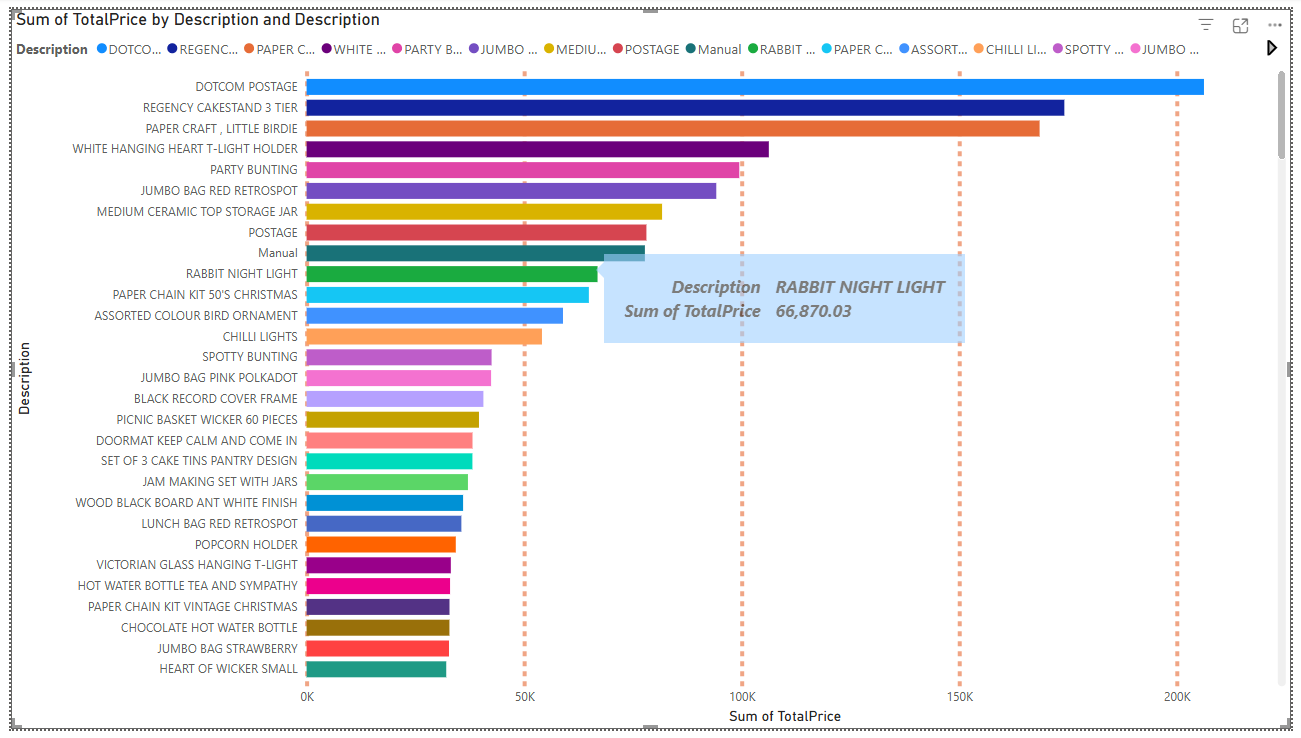

Layout of this report page (visuals, bound fields, positions):
{"tool":"powerbi","page":{"name":"Product Category Performance","canvas":[1280,720],"ordinal":3},"visuals":[{"type":"barChart","fields":{"Category":["cleaned_sales.Description"],"Y":["Sum(cleaned_sales.TotalPrice)"],"Series":["cleaned_sales.Description"]},"box":[0,0,1280,720],"z":0}]}

Visuals, with their boxes in screenshot pixels (x1, y1, x2, y2):
barChart - cleaned_sales.Description x Sum(cleaned_sales.TotalPrice): (left=3, top=3, right=1286, bottom=725)
